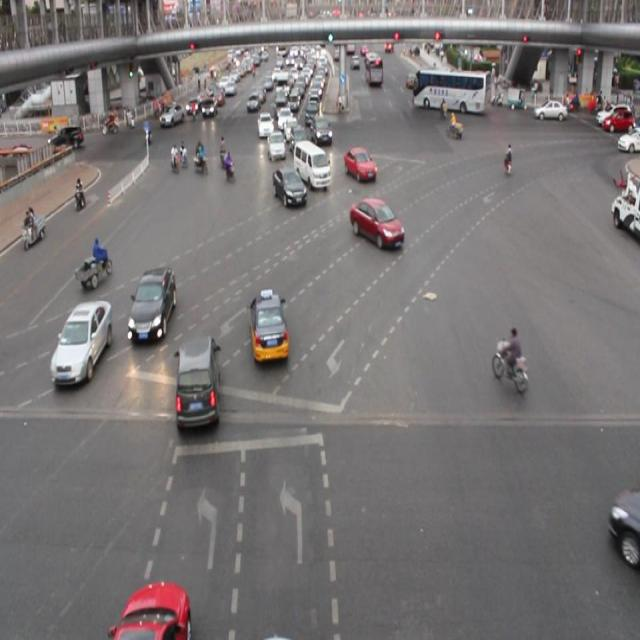car: (53, 300, 114, 382), (115, 580, 193, 640), (173, 335, 222, 427), (129, 268, 176, 342), (246, 286, 290, 362), (348, 193, 402, 250), (272, 164, 306, 208), (341, 145, 376, 181), (266, 130, 285, 162)
truck: (292, 139, 330, 188)
